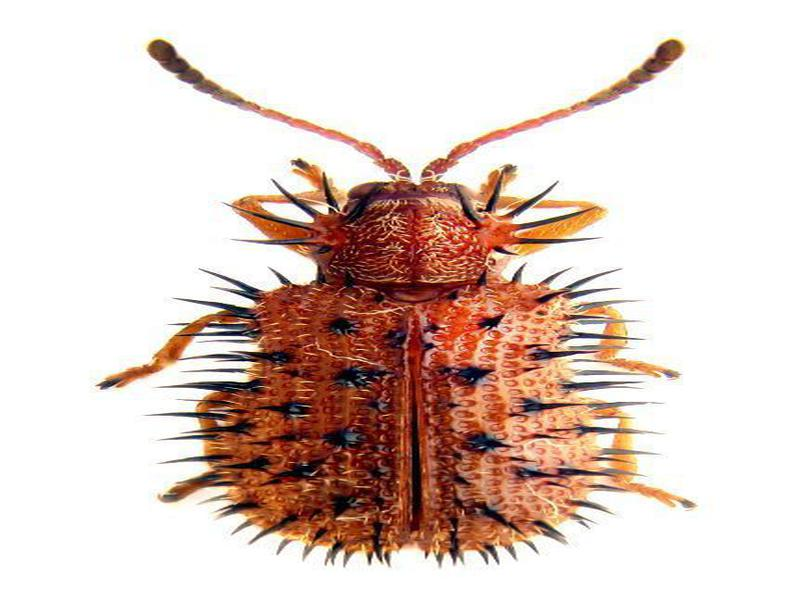Spiny_beetle: (86, 148, 684, 576)
